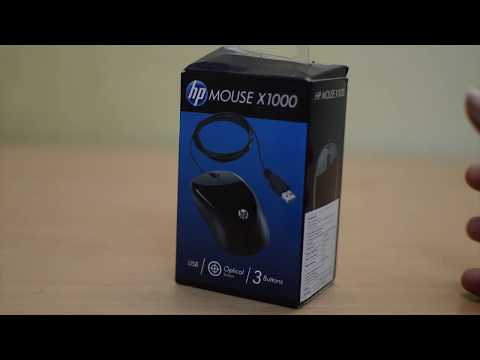hp-mouse-X1000: (178, 120, 297, 245)
